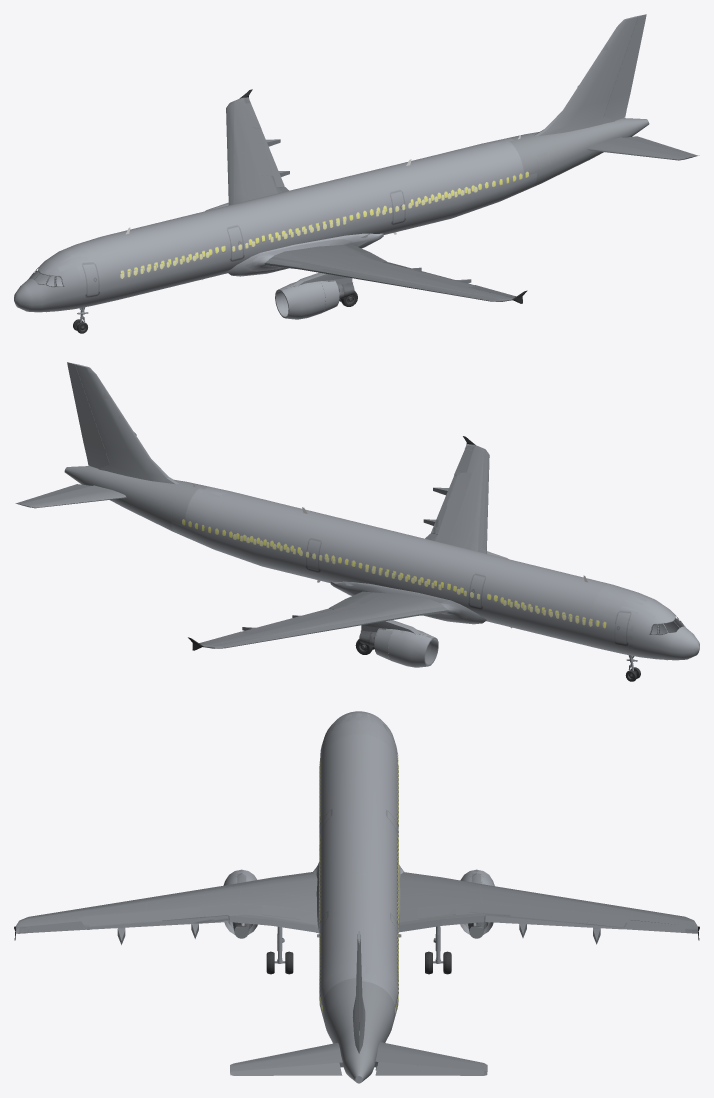
The picture shows the model from 3 angles, top to bottom: view 1: azimuth 30°, elevation 25°; view 2: azimuth 150°, elevation 25°; view 3: azimuth 270°, elevation 25°; orthographic projection. The views are drawn at different scales.
Visible parts, largest first — view 1: Fuselage (×3), Derive, WingLeft.1, WingRight.1, EngineLeft (×3), Soute (×2), Rudder.2, FuselageLight, EmpenageGauche.002, FuselageLight2; view 2: Fuselage (×2), Derive, WingRight.1, WingLeft.1, EngineLeft (×2), Rudder.3, Soute, FuselageLight, FuselageLight2, EmpenageDroit.002; view 3: Fuselage, WingLeft.1, WingRight.1, EmpenageGauche.002, EmpenageDroit.002, ElevatorRight.2, ElevatorLeft.2, SpoilerLeft.3, Spoiler.3, FlapOuterRight.2, FlapOuterLeft.2, FuselageLight (+2 smaller).
Boxes of the visible parts, x1,y1,x2,y2 form: Fuselage (×3): (14,118,649,312); Derive: (534,16,638,136); WingLeft.1: (265,244,516,301); WingRight.1: (226,97,281,205); EngineLeft (×3): (275,277,352,319); Soute (×2): (227,233,383,276); Rudder.2: (604,14,646,120); FuselageLight: (120,171,528,273); EmpenageGauche.002: (588,137,694,159); FuselageLight2: (120,186,477,277); Fuselage (×2): (64,466,699,660); Derive: (75,364,178,484); WingRight.1: (199,592,447,648); WingLeft.1: (432,443,489,553); EngineLeft (×2): (361,625,438,667); Rudder.3: (67,362,109,468); Soute: (330,581,486,624); FuselageLight: (182,519,606,628); FuselageLight2: (233,534,592,626); EmpenageDroit.002: (19,485,126,507); Fuselage: (319,711,398,1083); WingLeft.1: (16,872,318,933); WingRight.1: (399,872,697,933); EmpenageGauche.002: (230,1042,342,1071); EmpenageDroit.002: (375,1042,487,1070); ElevatorRight.2: (375,1062,487,1075); ElevatorLeft.2: (230,1062,342,1075); SpoilerLeft.3: (84,910,164,926); Spoiler.3: (550,910,628,927); FlapOuterRight.2: (485,914,622,929); FlapOuterLeft.2: (89,915,228,929); FuselageLight: (319,750,398,1014).
Bounding box in the file's own units: 45.65 × 12.74 × 34.31.
8 materials, 7 textured.
